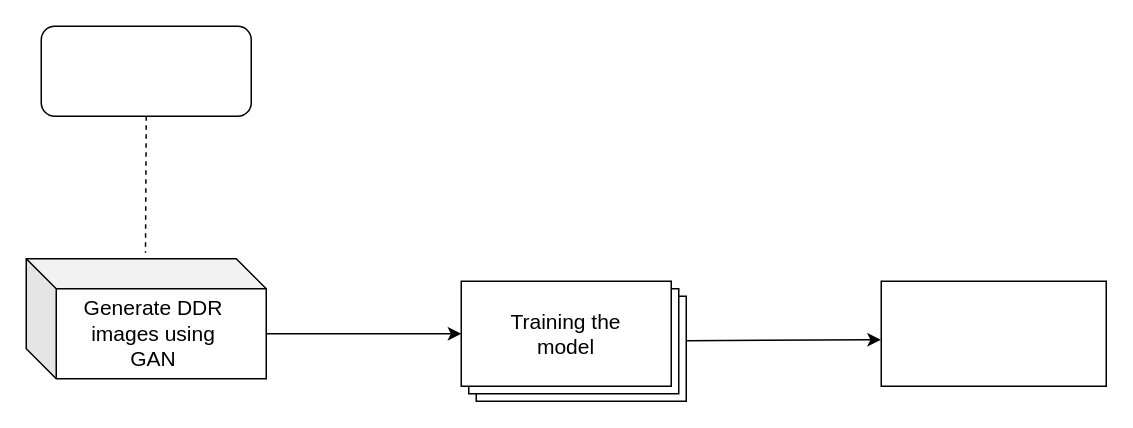
The diagram is 1133 pixels wide and 428 high, and some of its shapes have lost their labels. The box of each missing label's shape, as (x1, y1, x2, y2) in pixels:
image resolution 128x128: (40, 25, 251, 116)
Output: (880, 280, 1106, 386)
